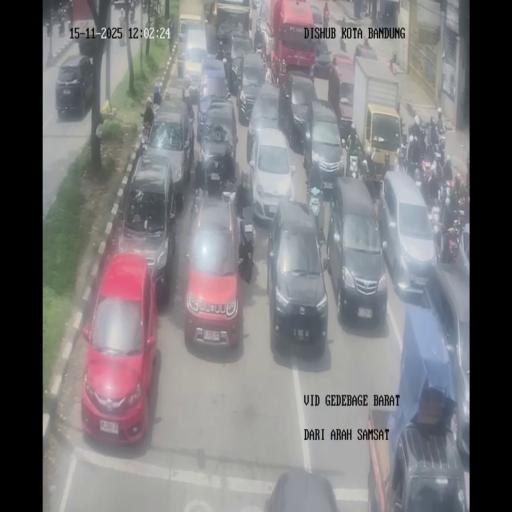3: (267, 0, 316, 85), (209, 1, 252, 41), (70, 1, 96, 55)
car: (80, 255, 158, 444), (418, 255, 469, 463), (183, 192, 245, 347), (266, 199, 328, 352), (328, 177, 387, 325), (118, 154, 178, 294), (380, 170, 438, 298), (248, 125, 296, 225), (303, 98, 345, 194), (196, 102, 238, 191), (55, 54, 94, 122), (236, 52, 267, 124), (330, 56, 357, 134), (180, 26, 209, 96), (228, 31, 253, 63), (313, 40, 332, 77), (309, 4, 324, 32)
truck: (237, 206, 255, 279), (439, 218, 461, 263), (306, 182, 324, 232), (428, 200, 444, 252), (190, 180, 206, 232), (360, 152, 377, 195), (422, 136, 437, 175), (457, 183, 469, 227), (406, 152, 422, 182), (420, 170, 434, 204), (220, 173, 236, 202), (140, 115, 153, 146), (395, 143, 407, 173), (265, 32, 275, 68), (435, 134, 446, 166), (348, 154, 360, 180), (255, 35, 265, 60), (167, 15, 175, 46), (388, 50, 397, 73), (399, 114, 406, 142), (154, 82, 162, 105), (66, 2, 74, 24), (58, 14, 65, 38), (128, 3, 135, 24), (46, 13, 52, 36), (322, 10, 330, 26), (340, 32, 346, 52), (361, 0, 368, 17), (141, 0, 149, 14)
